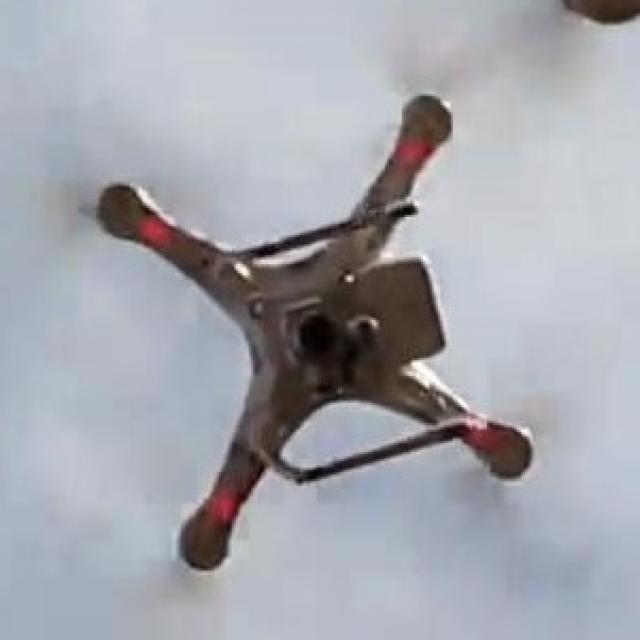drone: (49, 86, 616, 578)
